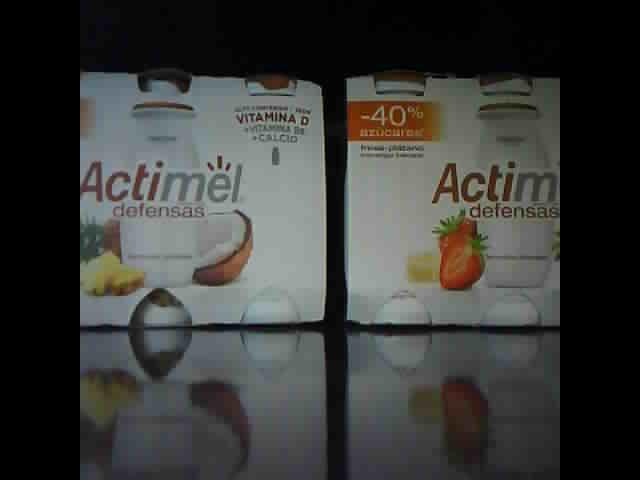actimel: (80, 67, 328, 329), (346, 68, 561, 327)
